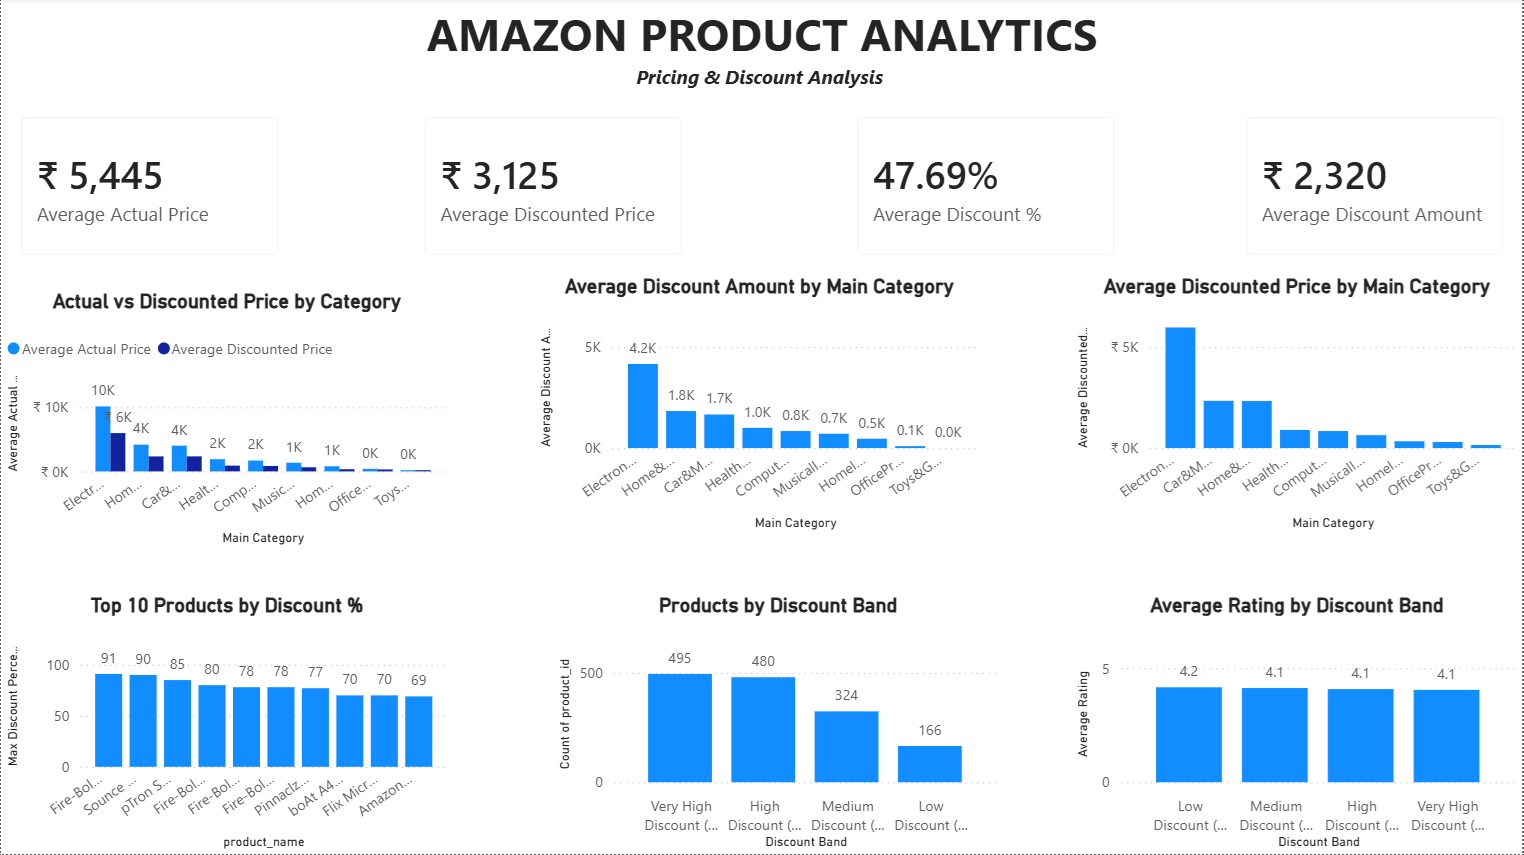

The dashboard page shown, as its layout file describes it:
{"tool":"powerbi","page":{"name":"Pricing & Discount Analysis","canvas":[1280,720],"ordinal":1},"visuals":[{"type":"clusteredColumnChart","title":"Actual vs Discounted Price by Category","fields":{"Category":["AmazonProducts.Main Category"],"Y":["AmazonProducts.Average Actual Price","AmazonProducts.Average Discounted Price"]},"box":[0,245.3,380,220],"z":0},{"type":"clusteredColumnChart","fields":{"Category":["AmazonProducts.Main Category"],"Y":["AmazonProducts.Average Discount Amount"]},"box":[447.7,232.6,380,220],"z":1},{"type":"clusteredColumnChart","fields":{"Category":["AmazonProducts.Main Category"],"Y":["AmazonProducts.Average Discounted Price"]},"box":[900,232.6,380,220],"z":2},{"type":"clusteredColumnChart","title":"Top 10 Products by Discount %","fields":{"Category":["AmazonProducts.product_name"],"Y":["AmazonProducts.Max Discount Percentage"]},"box":[0,500,380,220],"z":3},{"type":"clusteredColumnChart","title":"Products by Discount Band","fields":{"Category":["AmazonProducts.Discount Band"],"Y":["CountNonNull(AmazonProducts.product_id)"]},"box":[464,500,380,220],"z":4},{"type":"clusteredColumnChart","fields":{"Category":["AmazonProducts.Discount Band"],"Y":["AmazonProducts.Average Rating"]},"box":[900,500,380,220],"z":5},{"type":"textbox","box":[311.2,0,658.2,97.8],"z":6},{"type":"cardVisual","fields":{"Data":["AmazonProducts.Average Actual Price"]},"box":[0,82.6,250,150],"z":7},{"type":"cardVisual","fields":{"Data":["AmazonProducts.Average Discounted Price"]},"box":[339.5,82.6,250,150],"z":8},{"type":"cardVisual","fields":{"Data":["AmazonProducts.Average Discount %"]},"box":[703.5,82.6,250,150],"z":9},{"type":"cardVisual","fields":{"Data":["AmazonProducts.Average Discount Amount"]},"box":[1030.2,82.6,250,150],"z":10}]}

Visuals, with their boxes in screenshot pixels (x1, y1, x2, y2), scaled from the page's 1280x720 canvas onto the 1524x855 screenshot:
"Actual vs Discounted Price by Category" clusteredColumnChart: region(0, 291, 452, 553)
clusteredColumnChart - AmazonProducts.Main Category x AmazonProducts.Average Discount Amount: region(533, 276, 985, 537)
clusteredColumnChart - AmazonProducts.Main Category x AmazonProducts.Average Discounted Price: region(1072, 276, 1523, 537)
"Top 10 Products by Discount %" clusteredColumnChart: region(0, 594, 452, 854)
"Products by Discount Band" clusteredColumnChart: region(552, 594, 1005, 854)
clusteredColumnChart - AmazonProducts.Discount Band x AmazonProducts.Average Rating: region(1072, 594, 1523, 854)
textbox: region(371, 0, 1154, 116)
cardVisual - AmazonProducts.Average Actual Price: region(0, 98, 298, 276)
cardVisual - AmazonProducts.Average Discounted Price: region(404, 98, 702, 276)
cardVisual - AmazonProducts.Average Discount %: region(838, 98, 1135, 276)
cardVisual - AmazonProducts.Average Discount Amount: region(1227, 98, 1523, 276)
